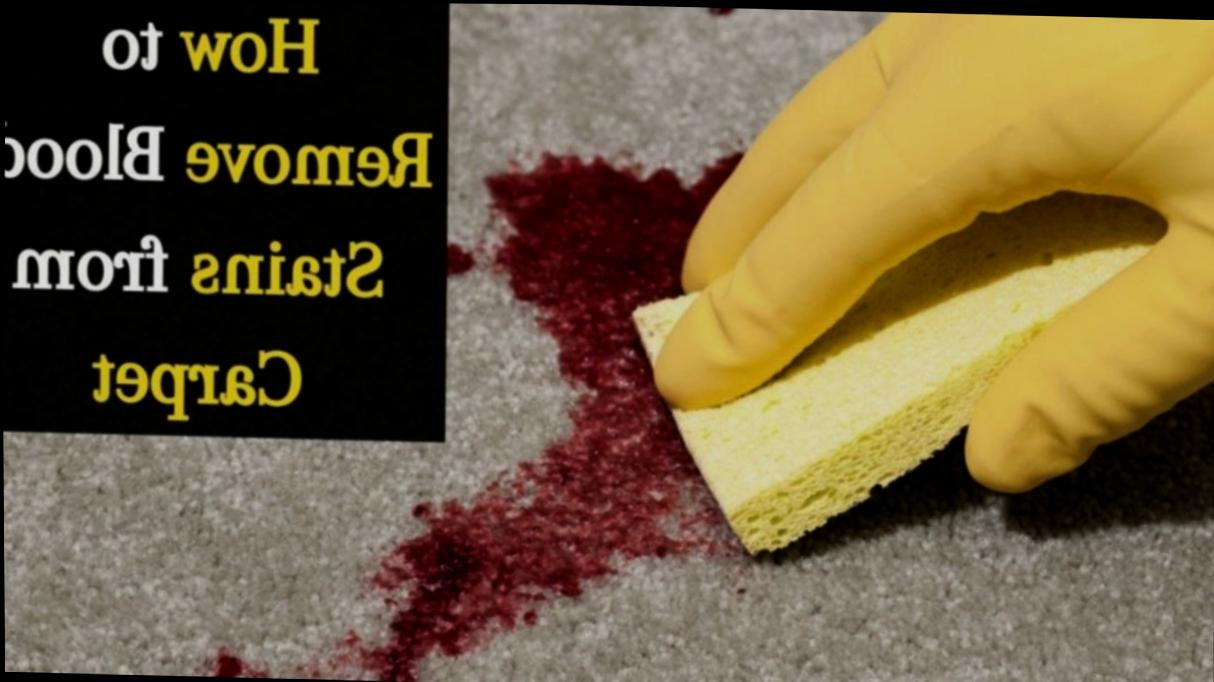Fire: (353, 149, 742, 681), (209, 645, 265, 678), (446, 241, 474, 274)
